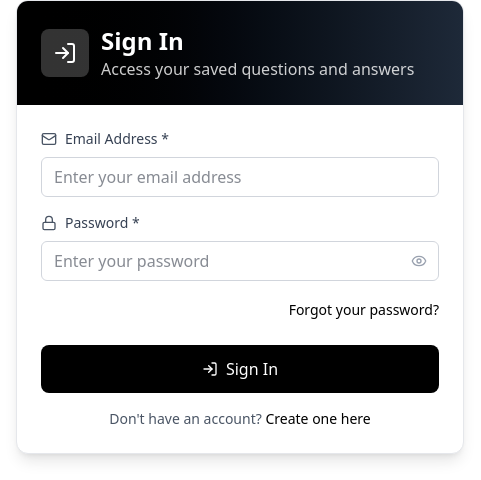
Test case: SignInForm › Form Submission › shows loading state during form submission
In the field with test id "email-input": x=240, y=177 [41,157,439,197], type "test@example.com"
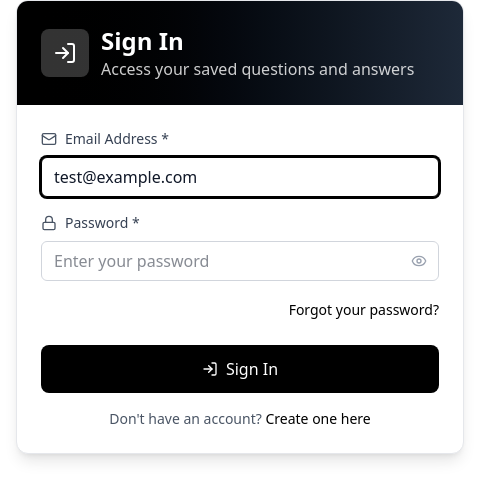
In the password field with test id "password-input": x=240, y=261 [41,241,439,281], type "password123"
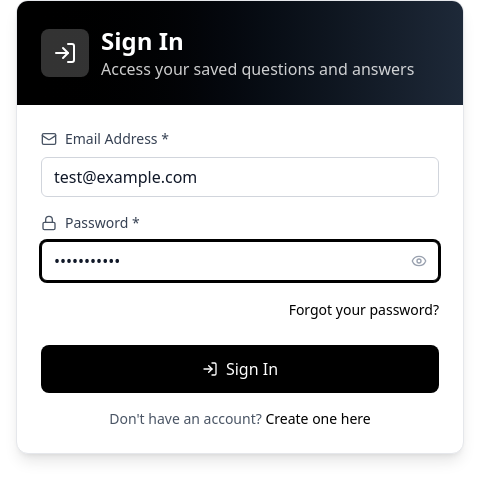
Click the button with test id "signin-button": x=240, y=369 [41,345,439,393]
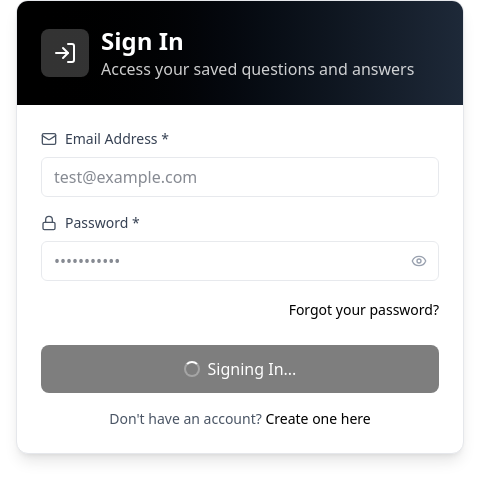
Expected: the button with test id "signin-button" is disabled, [41,345,439,393]
